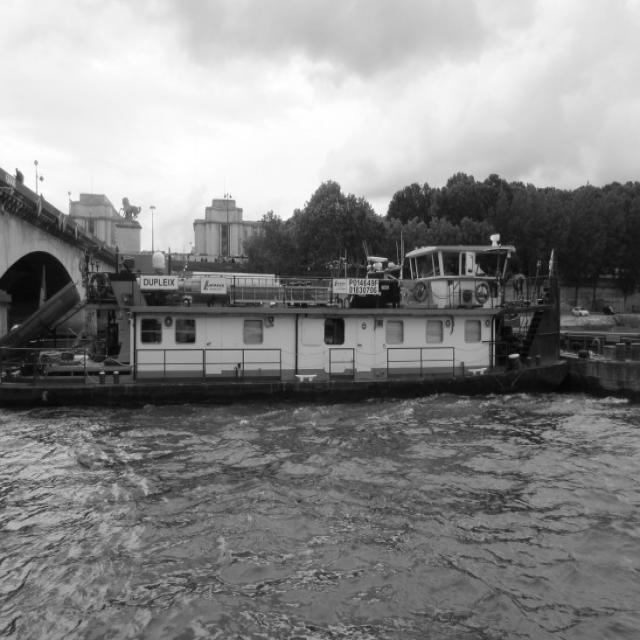tugboat: (1, 238, 589, 413)
